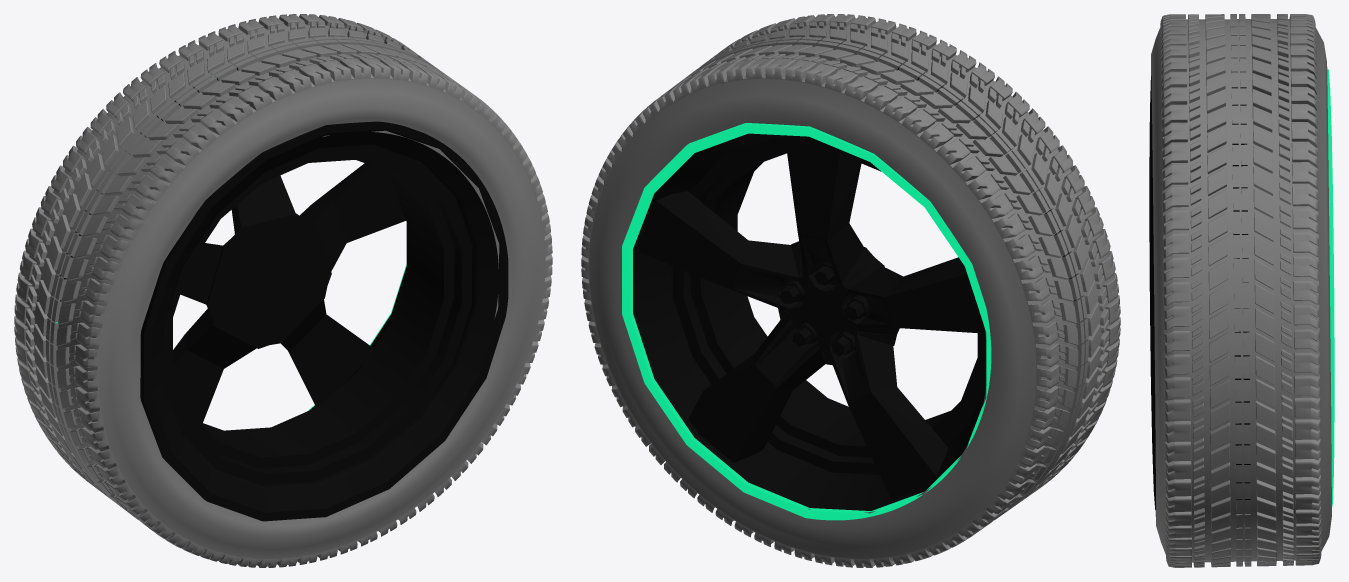
Rendered from tyre_fbx.FBX.
3 renders of one model, left to right at view 1: azimuth 30°, elevation 25°; view 2: azimuth 150°, elevation 25°; view 3: azimuth 270°, elevation 25°, orthographic. The views are drawn at different scales.
Visible parts, largest first — view 1: Plane86, Tube02, Plane14; view 2: Plane86, Plane14, Tube02; view 3: Plane86, Tube02.
Part boxes in pixels (x1,y1,x2,y2): Plane86: (14, 14, 552, 567); Tube02: (55, 67, 508, 521); Plane14: (173, 163, 405, 422); Plane86: (581, 14, 1120, 567); Plane14: (638, 135, 985, 499); Tube02: (622, 67, 1075, 520); Plane86: (1151, 14, 1331, 567); Tube02: (1149, 69, 1334, 510).
Size of the model in its own units: 310 by 310 by 104.
